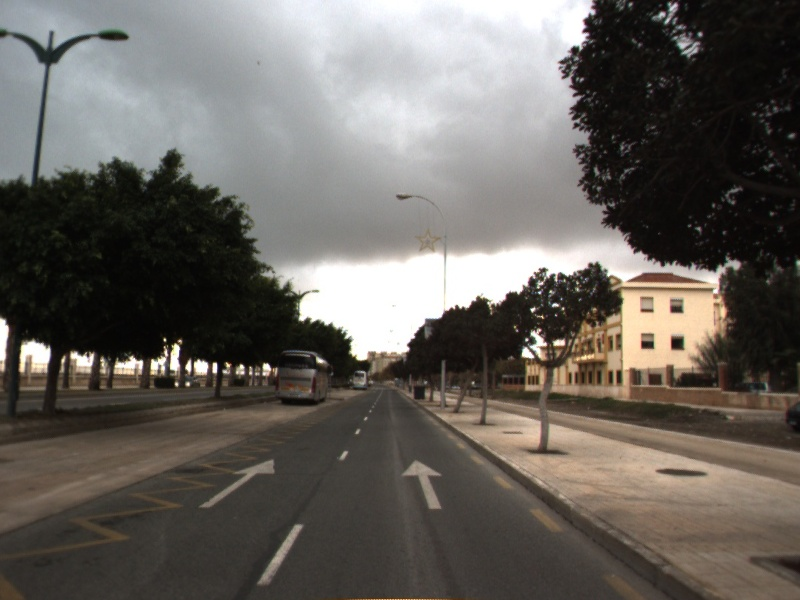STRAIGHT: (197, 457, 276, 509), (399, 457, 445, 511)
